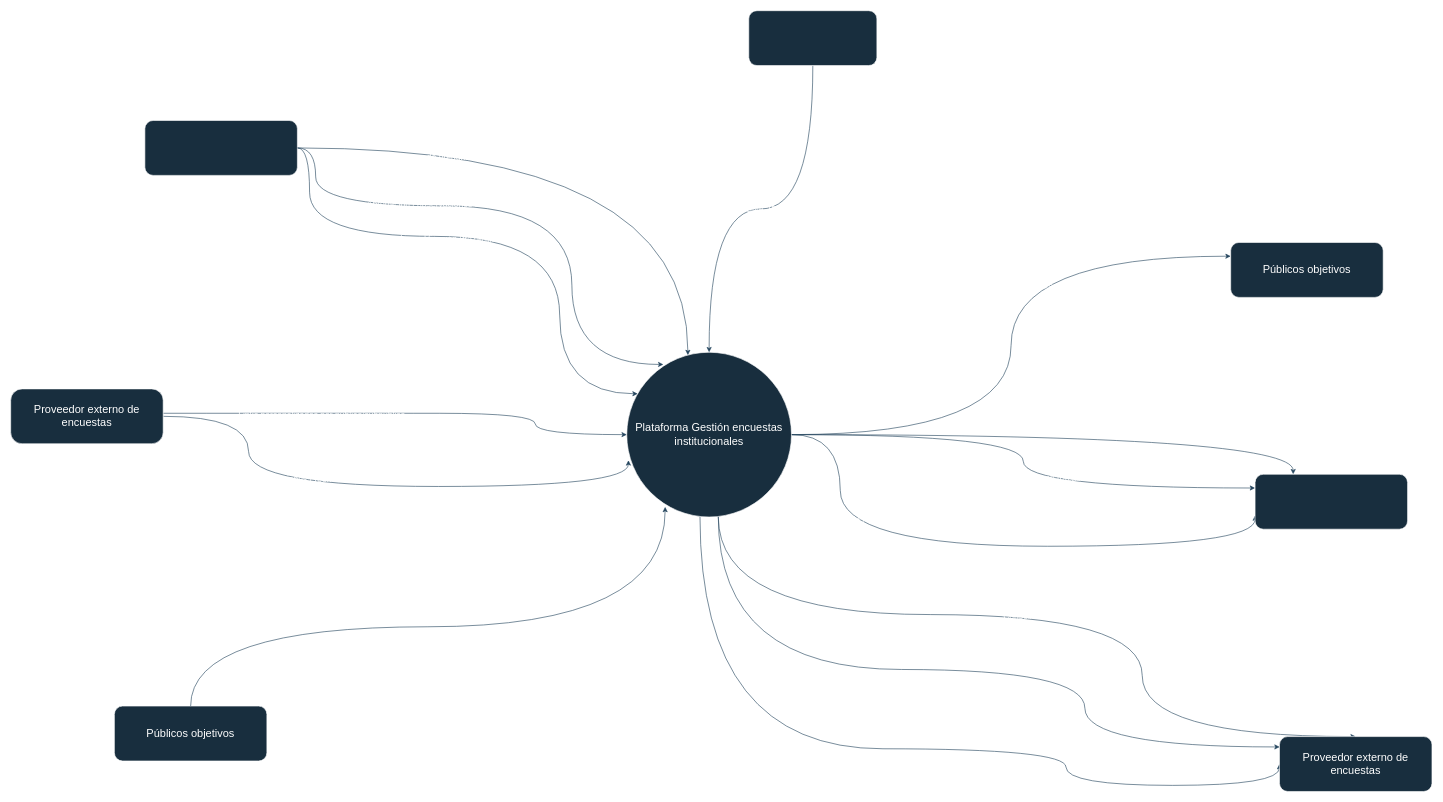
The diagram is 1443 pixels wide and 802 high, and some of its shapes have lost their labels. The box of each missing label's shape, as (x1, y1, x2, y2) in pixels:
Consejo nacional de acreditación(CNA): (748, 10, 877, 66)
Microsoft 365: (1254, 474, 1408, 529)
Usuario interno DDE (Admin, Encargado, Revisor): (144, 120, 297, 175)
